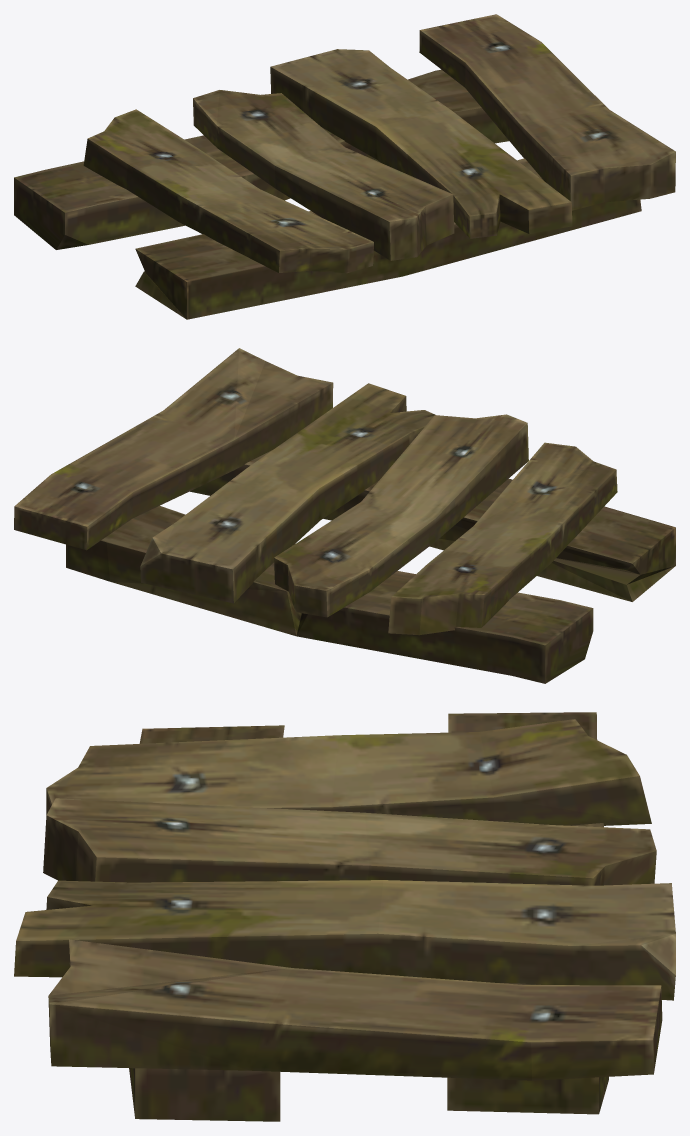
File: dock_06.fbx
3 renders of one model, top to bottom at view 1: azimuth 30°, elevation 25°; view 2: azimuth 150°, elevation 25°; view 3: azimuth 270°, elevation 25°, orthographic. The views are drawn at different scales.
Visible parts, largest first — view 1: obj1.142; view 2: obj1.142; view 3: obj1.142.
Boxes of the visible parts, x1,y1,x2,y2 form: obj1.142: (14, 14, 675, 319); obj1.142: (14, 348, 675, 683); obj1.142: (14, 712, 675, 1121).
Size of the model in its own units: 4.39 by 0.7284 by 3.29.
